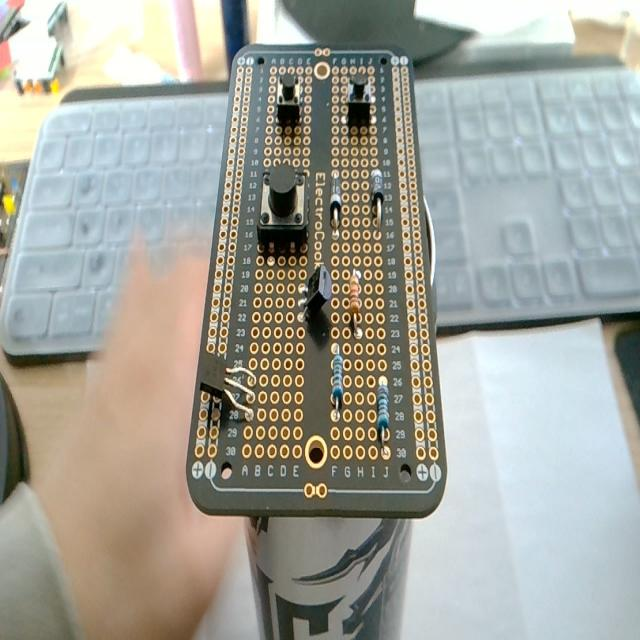diode: (370, 169, 384, 225), (329, 174, 342, 228)
resistor: (348, 270, 362, 338), (376, 382, 389, 440), (331, 354, 344, 409)
switch: (258, 166, 308, 250), (276, 72, 301, 126), (347, 75, 372, 128)
transistor: (199, 352, 256, 426), (296, 261, 333, 332)
